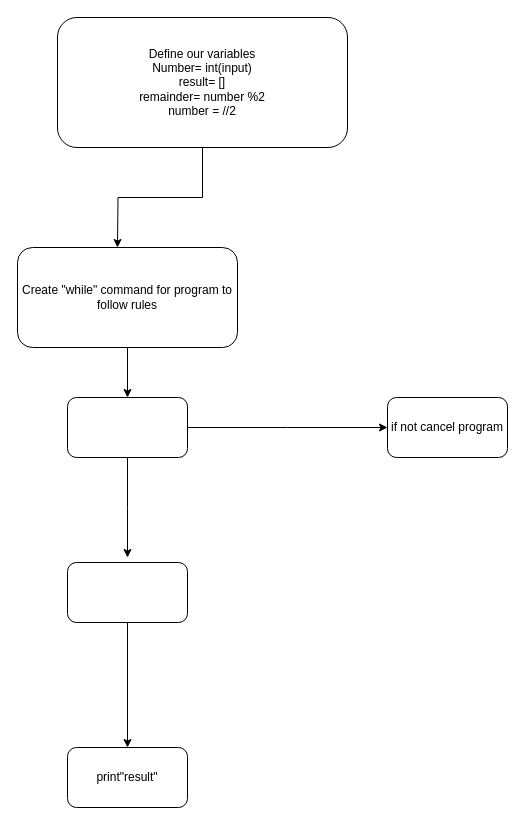
This 525x825 diagram has some shape labels left out. The centre of each missing label's shape, as x and y in pixels:
attach the remainder yo the result by using append: the point at 127,592
While number>0: the point at 127,427
